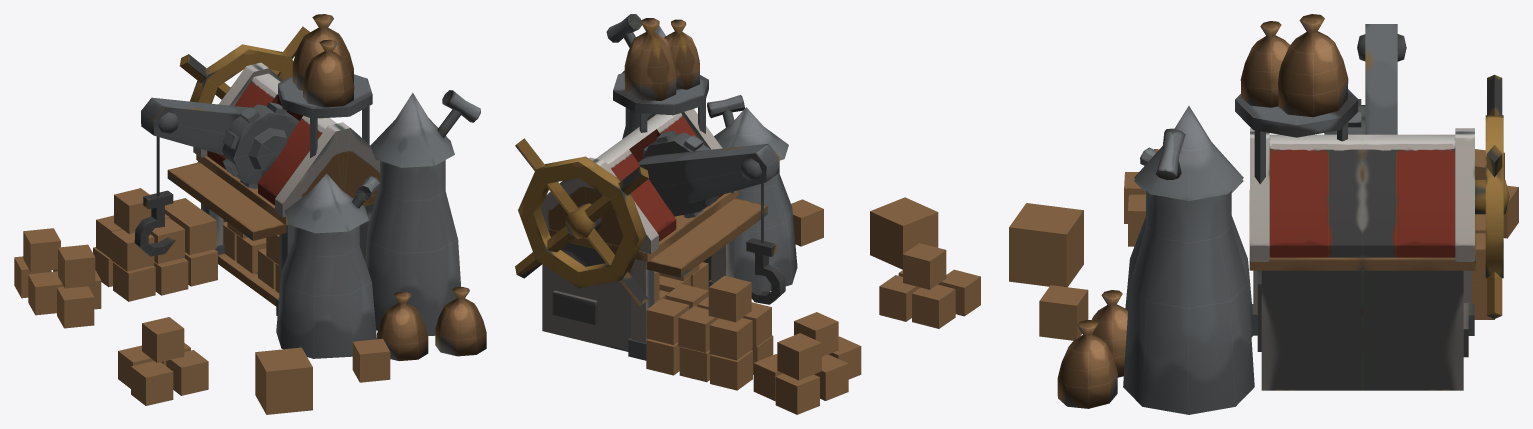
Rendered from liangcang.FBX.
3 views of the same model, side by side, from view 1: azimuth 30°, elevation 25°; view 2: azimuth 150°, elevation 25°; view 3: azimuth 270°, elevation 25° (orthographic). The views are drawn at different scales.
Visible parts, largest first — view 1: liangcang; view 2: liangcang; view 3: liangcang.
Boxes of the visible parts, bbox=[...] form: liangcang: bbox=[14, 14, 486, 414]; liangcang: bbox=[515, 14, 980, 414]; liangcang: bbox=[1009, 14, 1518, 414].
Size of the model in its own units: 87.07 by 65.96 by 87.09.
